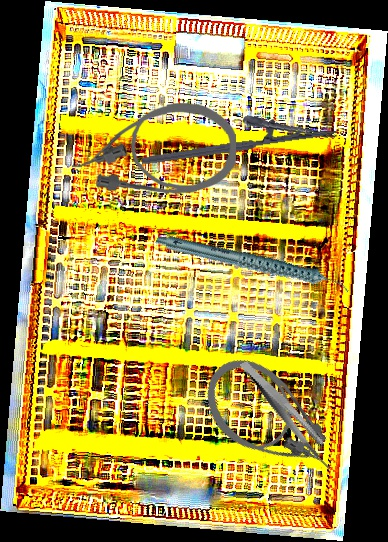Cannula: (188, 341, 350, 505), (69, 101, 238, 198)
Dressing Forceps: (239, 346, 329, 471)
Handpiece: (154, 196, 352, 333)
Needle Holder: (137, 103, 338, 166)
